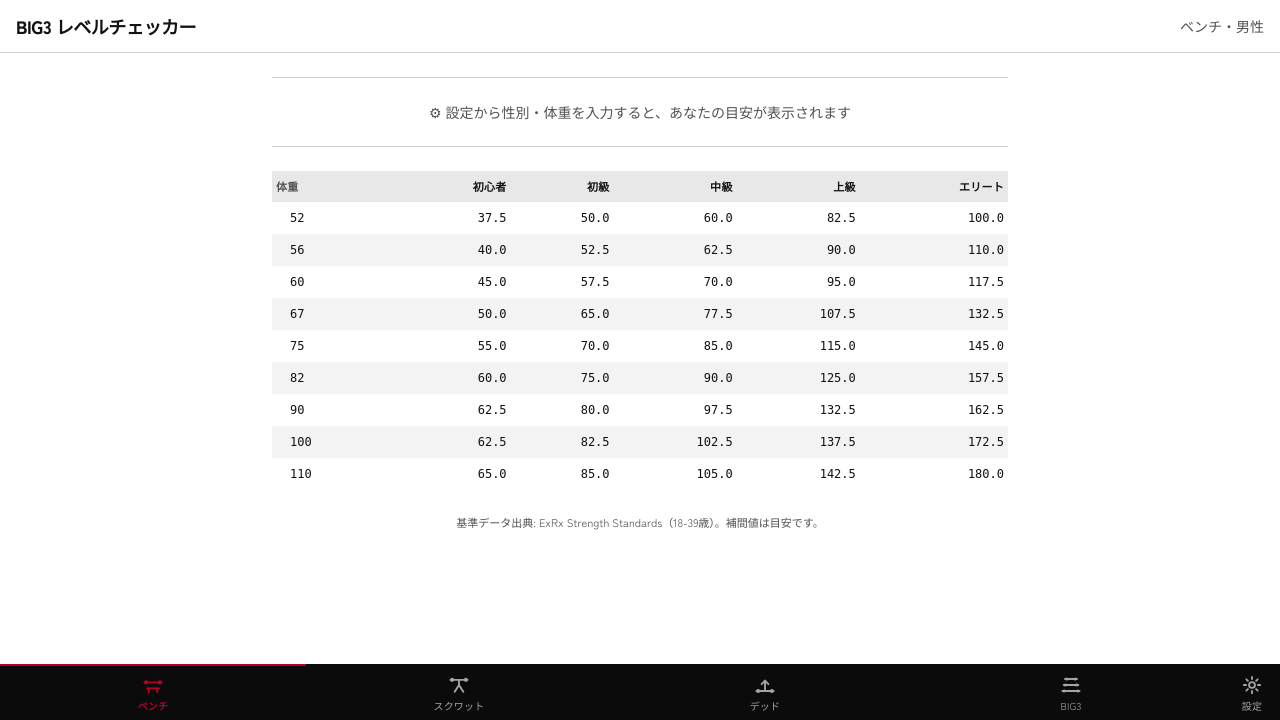
App › 表示オプションで世界記録列と125kg以降の行を出せる（既定は非表示）
Expected: the text "世界記録" is not shown
Expected: the text "145+" is not shown
Click the button "設定" at (1252, 692), box [1224,664,1279,719]
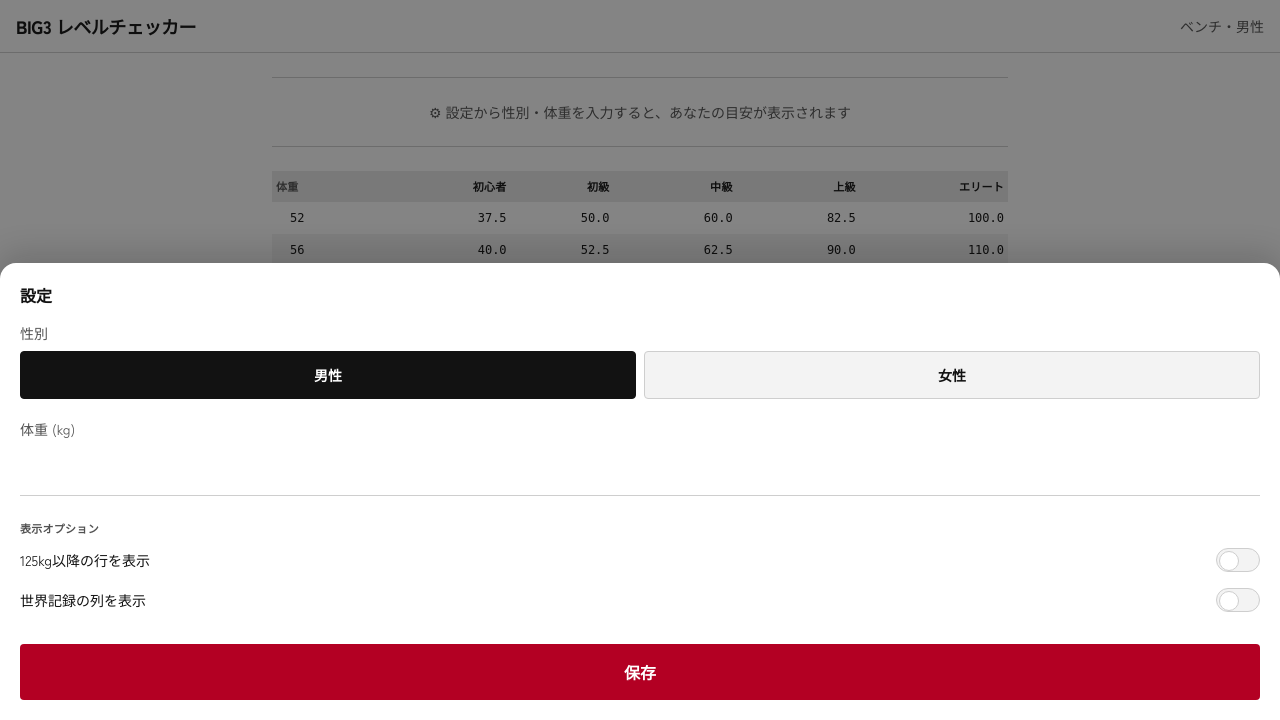
Type "70" into the number field labelled "体重 (kg)" at (640, 469), box [20,442,1260,496]
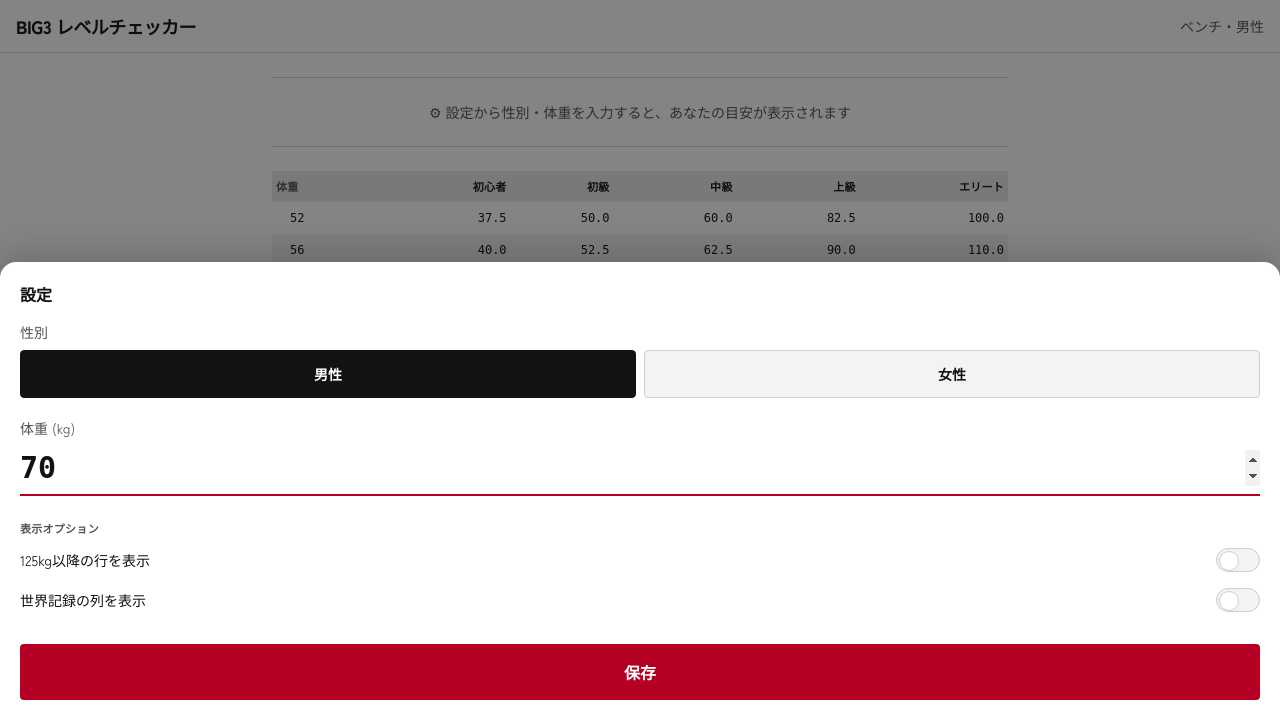
Click the switch named "世界記録の列を表示" in the row of "世界記録の列を表示" at (1238, 600), box [1216,588,1260,612]
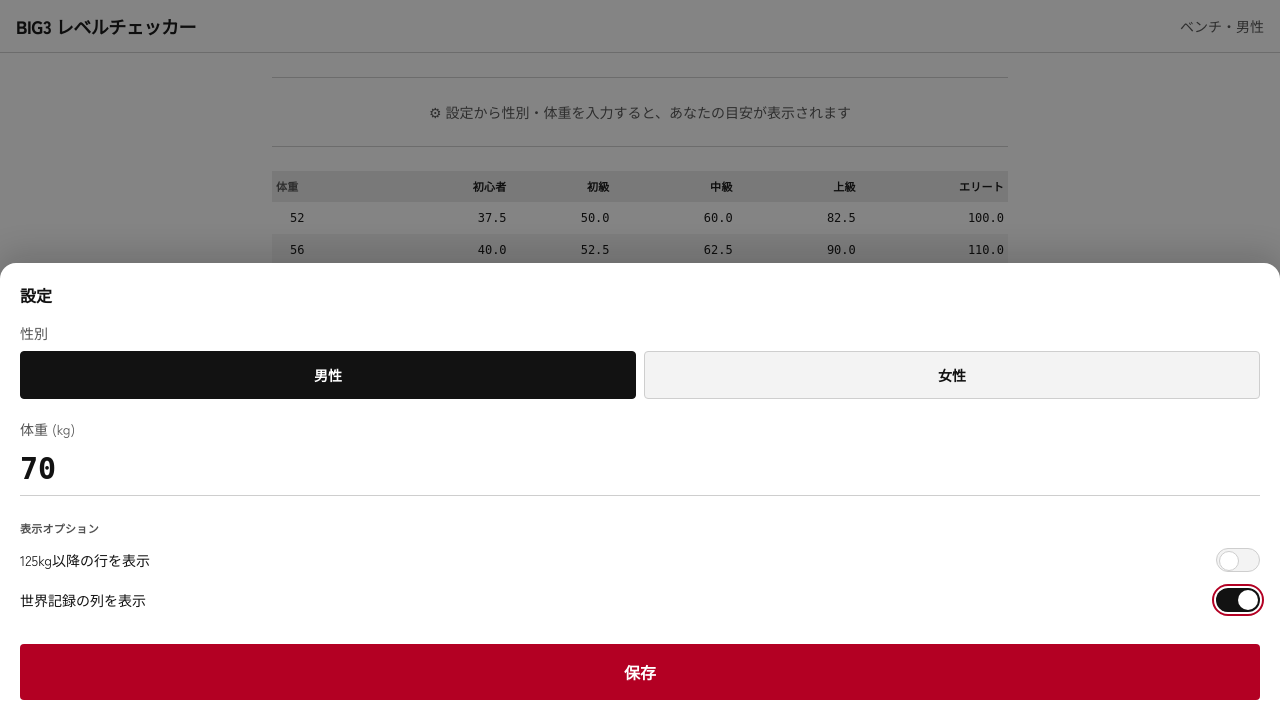
Click the switch named "125kg以降の行を表示" in the row of "125kg以降の行を表示" at (1238, 560), box [1216,548,1260,572]
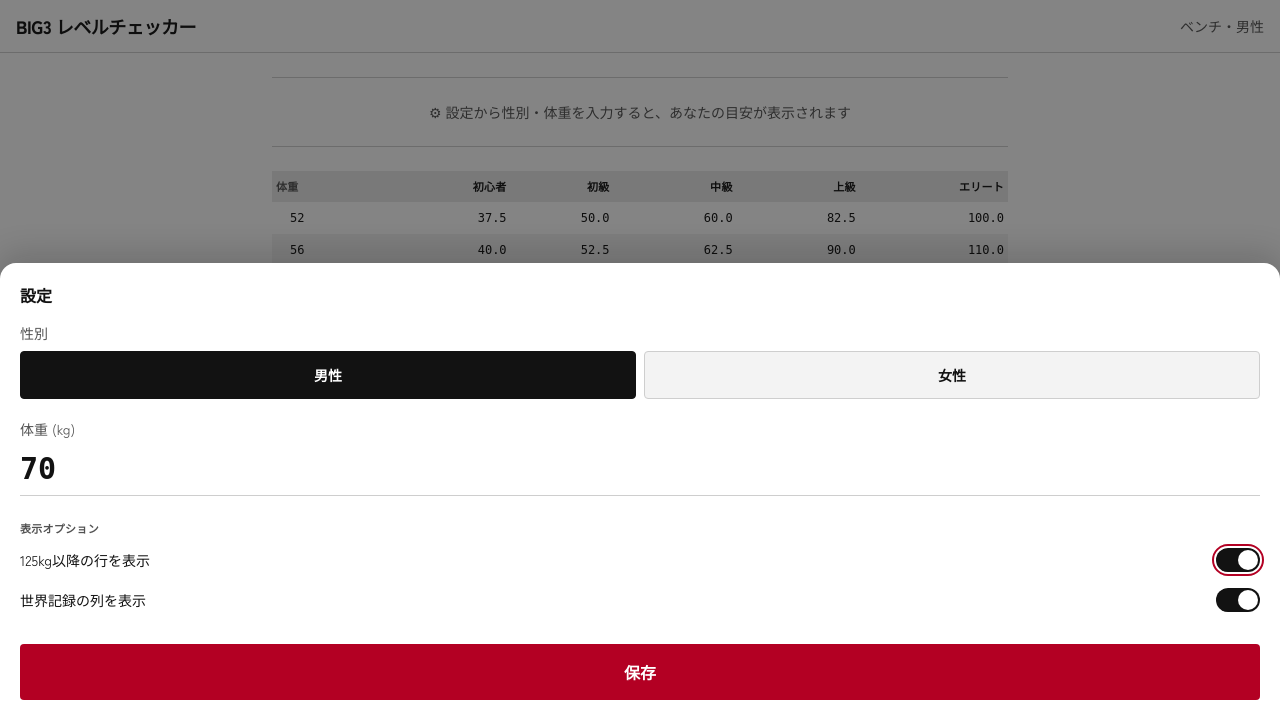
Click the button "保存" at (640, 672), box [20,644,1260,700]
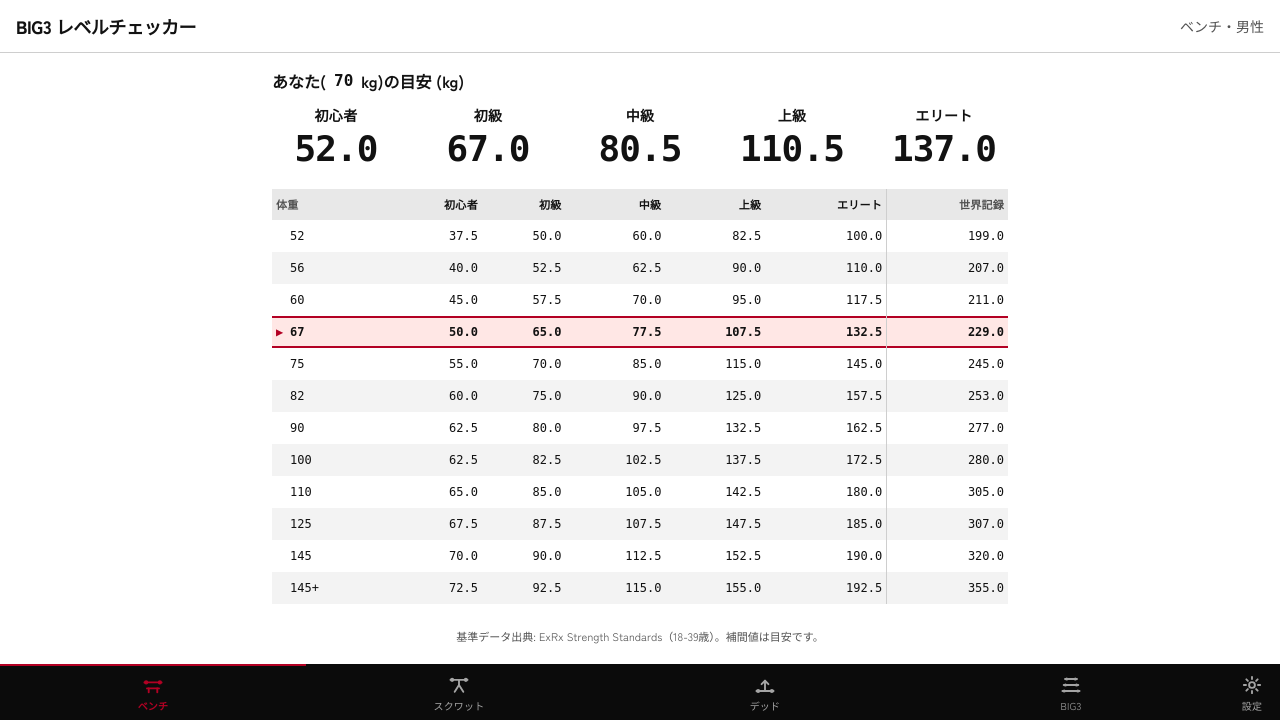
Expected: the column heading "世界記録" is shown, [887,189,1008,220]
Expected: the text "145+" is shown, [272,572,387,604]
